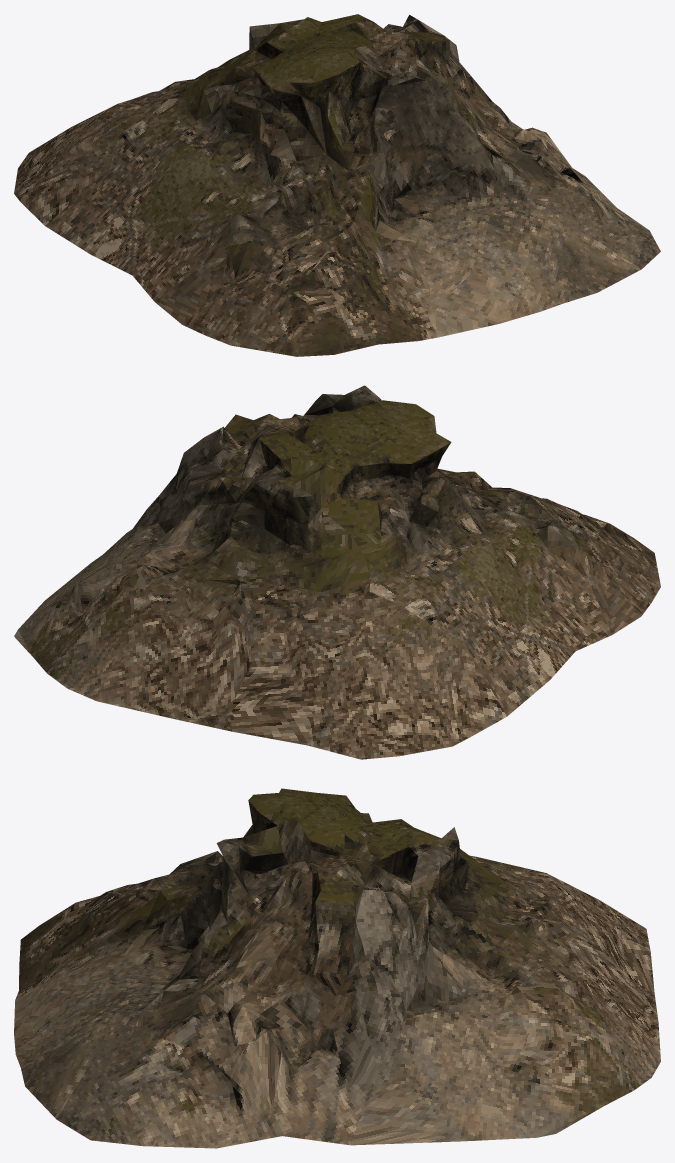
The model's file is tree_stump_01.glb.
3 renders of one model, top to bottom at view 1: azimuth 30°, elevation 25°; view 2: azimuth 150°, elevation 25°; view 3: azimuth 270°, elevation 25°, orthographic. The views are drawn at different scales.
Parts seen in each view (by area): view 1: tree_stump_01; view 2: tree_stump_01; view 3: tree_stump_01.
Part boxes in pixels (x1,y1,x2,y2): tree_stump_01: [14, 14, 660, 356]; tree_stump_01: [14, 385, 660, 759]; tree_stump_01: [14, 788, 660, 1148].
Bounding box in the file's own units: 1.43 × 0.5775 × 1.59.
1 material, 1 textured.
